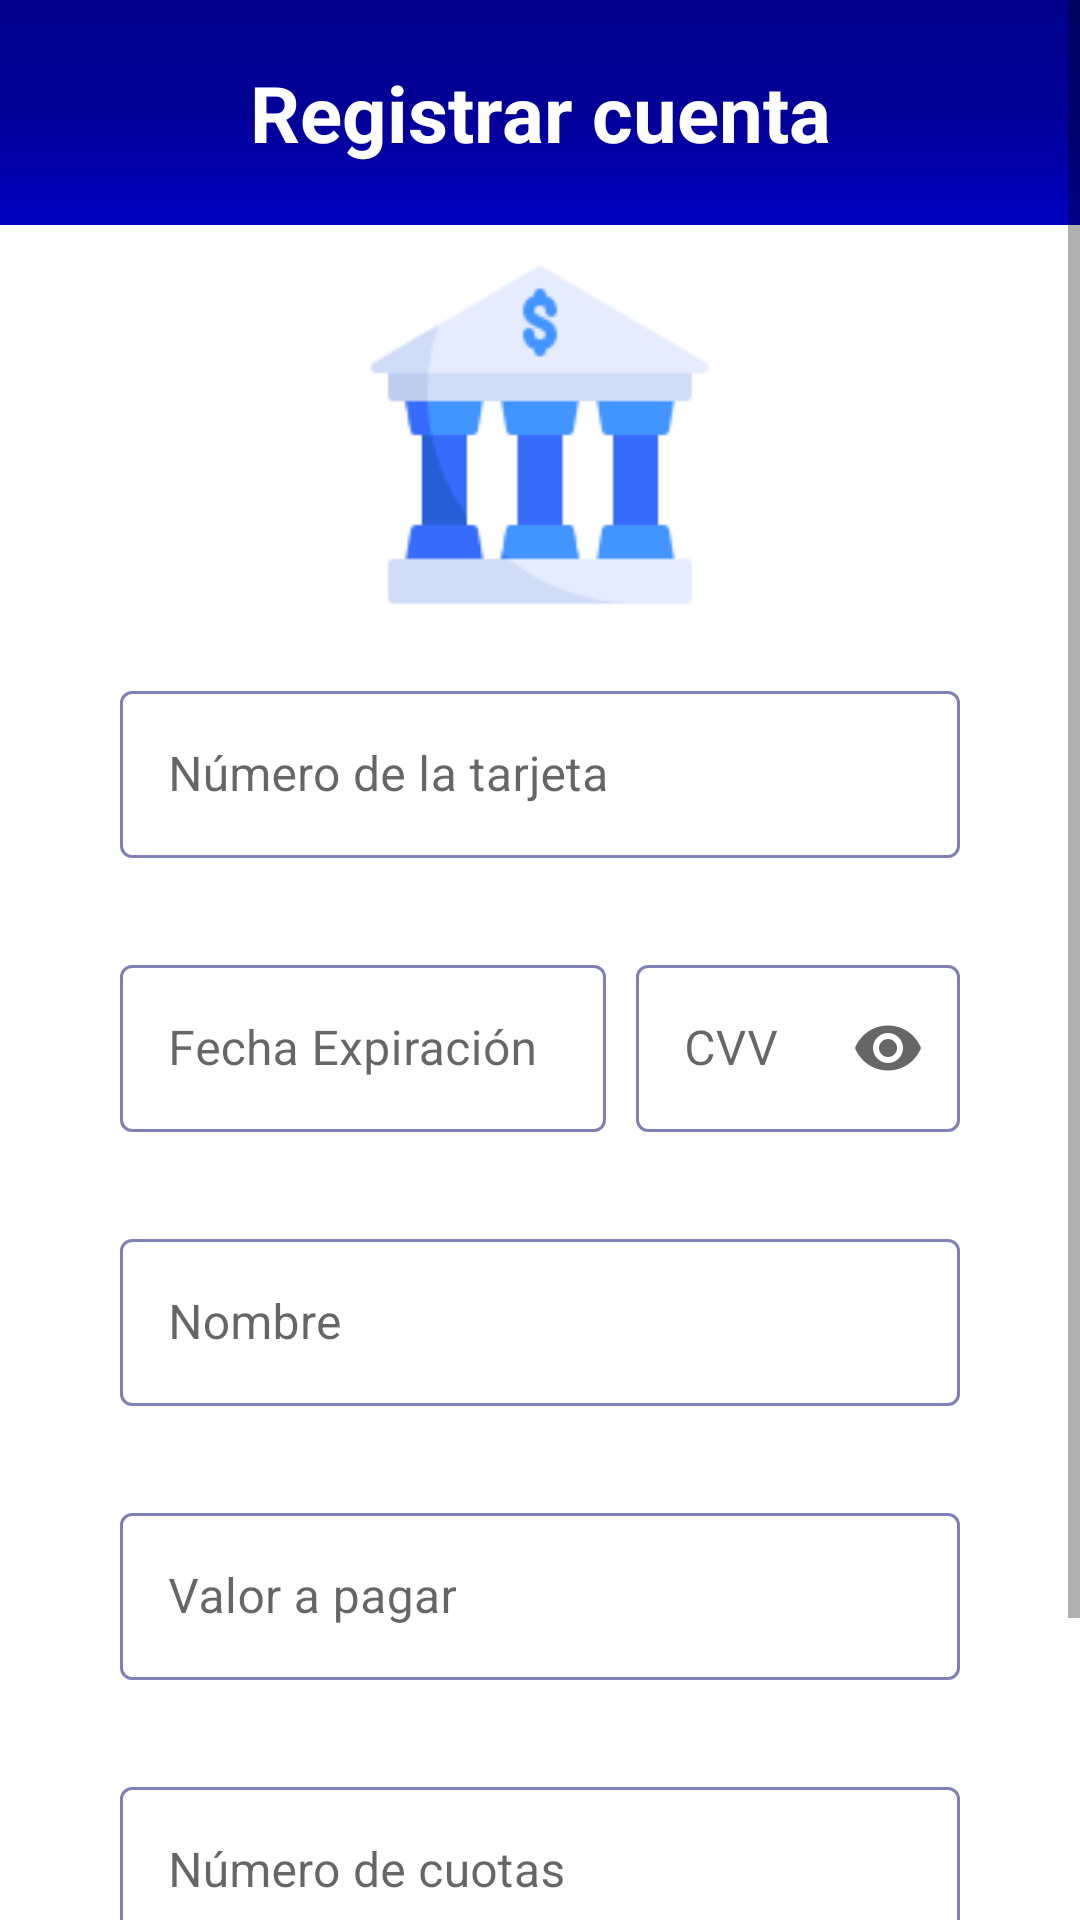

Locate icon controls on the screen. Image size 1080*1920, boxes as (x1, y1, x2, y2).
banco: (371, 270, 705, 604)
